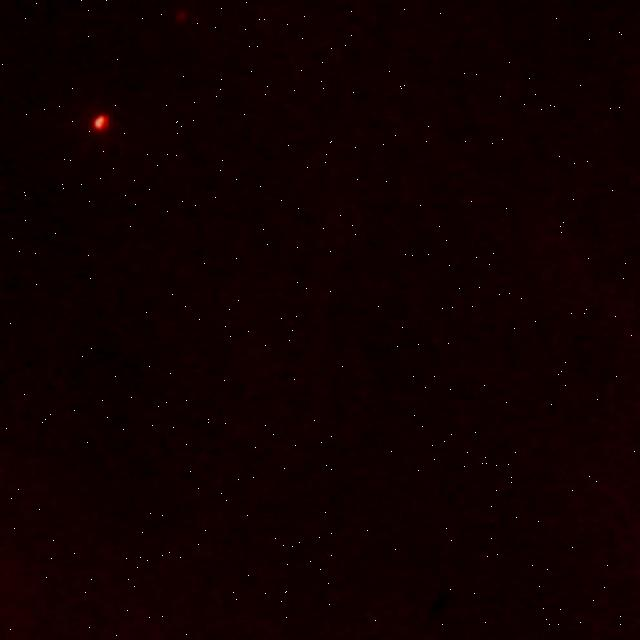Fragment: (94, 114, 106, 130)
